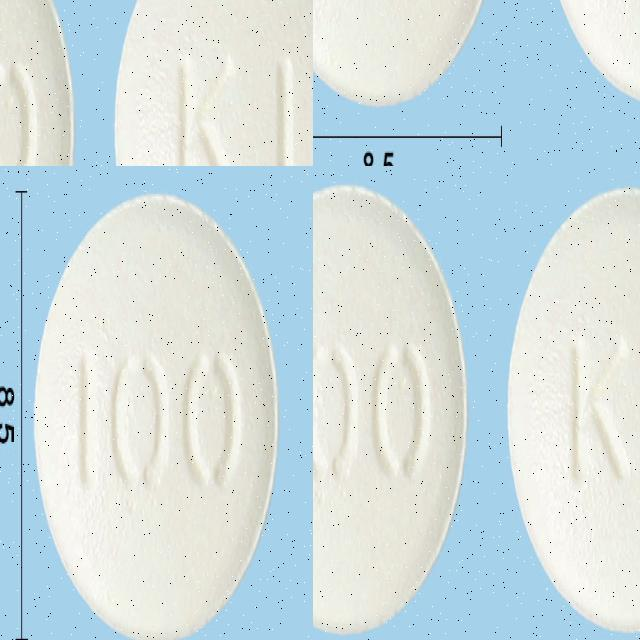Doxymycin N: (112, 0, 313, 166), (0, 0, 75, 166)
Levogun - 500mg: (313, 184, 466, 634), (506, 184, 640, 631)
Lincocin: (313, 0, 640, 166)
Sinil Ciprofloxacin HCl Tab: (33, 393, 313, 640)
